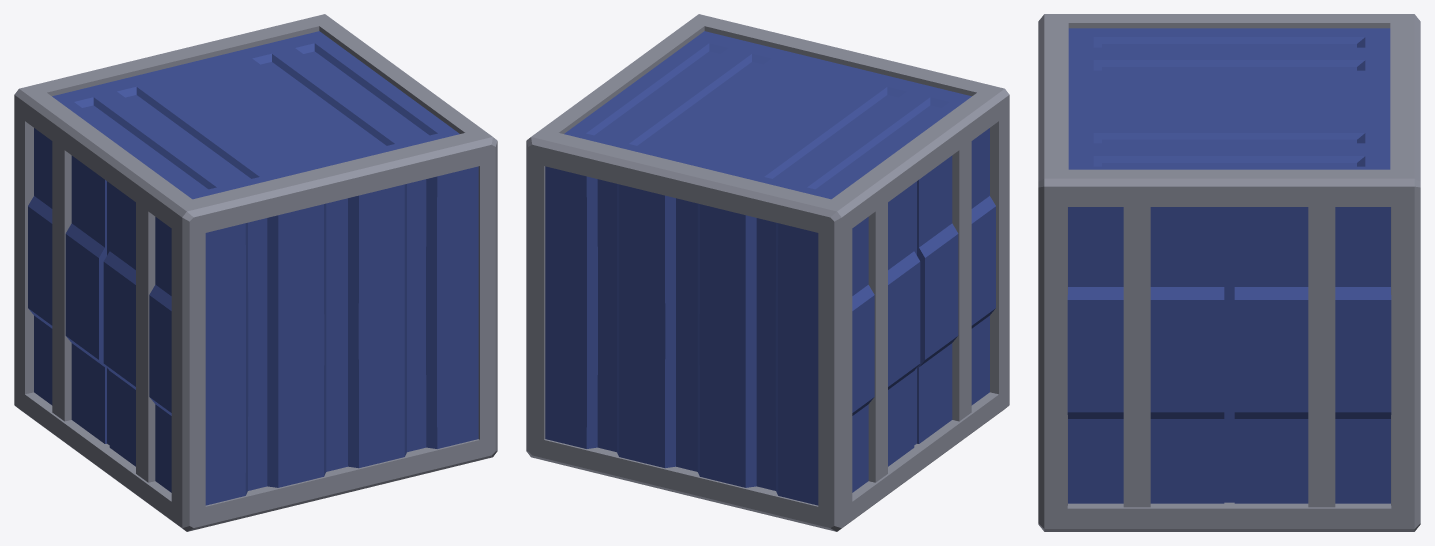
Rendered from quaternius-toon-shooter-game-container-small.glb.
3 renders of one model, left to right at view 1: azimuth 30°, elevation 25°; view 2: azimuth 150°, elevation 25°; view 3: azimuth 270°, elevation 25°, orthographic. The views are drawn at different scales.
Visible parts, largest first — view 1: Container_Small; view 2: Container_Small; view 3: Container_Small.
Part boxes in pixels (<box>): Container_Small: <box>14,14,497,531</box>; Container_Small: <box>526,14,1009,531</box>; Container_Small: <box>1038,14,1420,531</box>.
Size of the model in its own units: 2.19 by 2.13 by 2.09.
